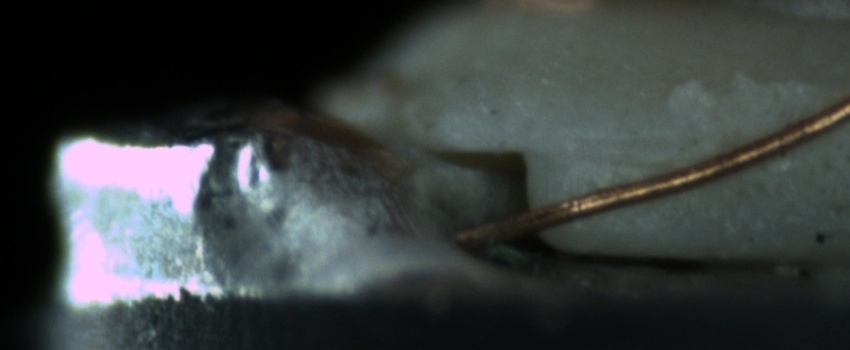DL: (559, 109, 696, 179)
